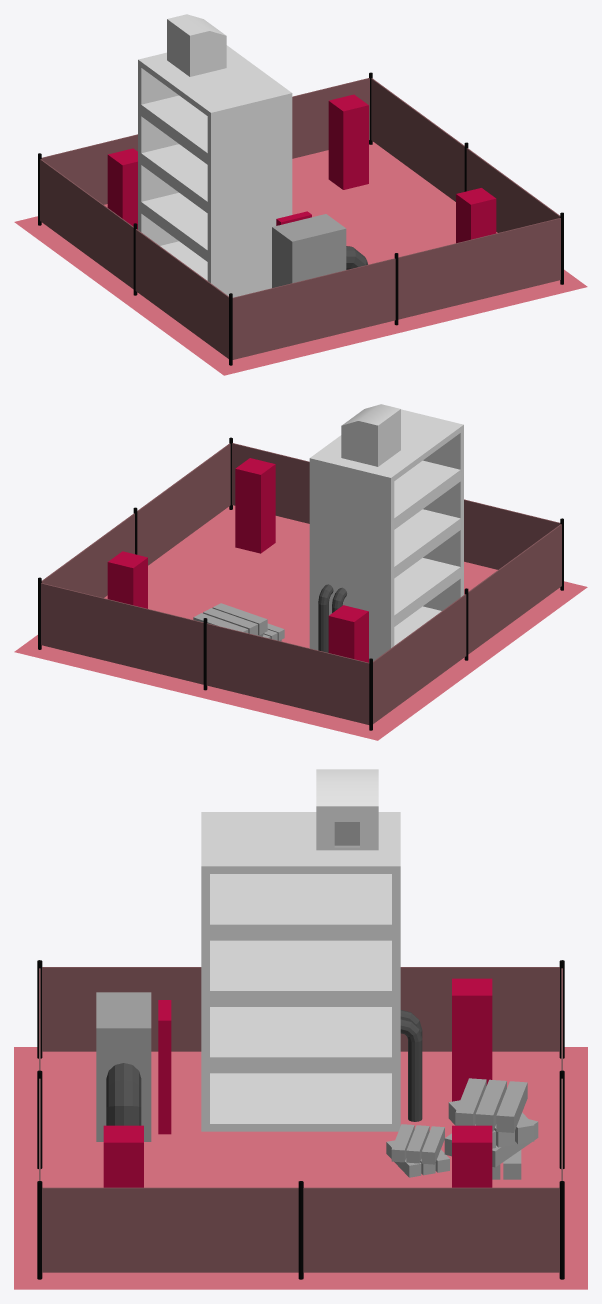
The model's file is 55_pink.fbx.
3 views of the same model, one above another, from view 1: azimuth 30°, elevation 25°; view 2: azimuth 150°, elevation 25°; view 3: azimuth 270°, elevation 25° (orthographic). The views are drawn at different scales.
Parts seen in each view (by area): view 1: pCube229, five_five4, pCube228, pCube227, pCube222, pCube217, pCube225, pCube233, pCube239, pCube226, pCube241, pCube224 (+3 smaller); view 2: pCube229, five_five4, pCube223, pCube224, pCube217, pCube222, pCube226, pCube228, pCube238, pCube225, pCube241, pCube227 (+5 smaller); view 3: pCube229, five_five4, pCube226, pCube225, pCube222, pCube217, pCube233, pCube241, pCube240, pCube239, pCube238, pCylinder44 (+5 smaller).
Part boxes in pixels (bbox=[...]): pCube229: bbox=[138, 45, 292, 297]; five_five4: bbox=[14, 141, 587, 375]; pCube228: bbox=[232, 258, 395, 359]; pCube227: bbox=[398, 218, 560, 319]; pCube222: bbox=[40, 159, 133, 289]; pCube217: bbox=[135, 229, 228, 358]; pCube225: bbox=[371, 78, 464, 201]; pCube233: bbox=[272, 214, 346, 287]; pCube239: bbox=[328, 94, 368, 189]; pCube226: bbox=[466, 148, 560, 232]; pCube241: bbox=[167, 14, 226, 76]; pCube224: bbox=[292, 78, 369, 158]; pCube229: bbox=[309, 409, 463, 662]; five_five4: bbox=[14, 505, 587, 740]; pCube223: bbox=[206, 623, 369, 724]; pCube224: bbox=[41, 583, 203, 684]; pCube217: bbox=[468, 524, 561, 654]; pCube222: bbox=[373, 594, 466, 723]; pCube226: bbox=[137, 443, 230, 565]; pCube228: bbox=[464, 499, 560, 569]; pCube238: bbox=[235, 458, 275, 553]; pCube225: bbox=[41, 513, 134, 597]; pCube241: bbox=[341, 404, 400, 466]; pCube227: bbox=[232, 443, 309, 523]; pCube229: bbox=[201, 812, 400, 1131]; five_five4: bbox=[14, 1047, 587, 1289]; pCube226: bbox=[42, 1187, 298, 1272]; pCube225: bbox=[303, 1187, 559, 1272]; pCube222: bbox=[400, 967, 559, 1051]; pCube217: bbox=[42, 967, 201, 1051]; pCube233: bbox=[96, 992, 151, 1141]; pCube241: bbox=[316, 769, 378, 850]; pCube240: bbox=[452, 978, 492, 1101]; pCube239: bbox=[452, 1125, 492, 1187]; pCube238: bbox=[103, 1125, 143, 1187]; pCylinder44: bbox=[106, 1063, 141, 1125].
Size of the model in its own units: 5 by 3.16 by 5.
